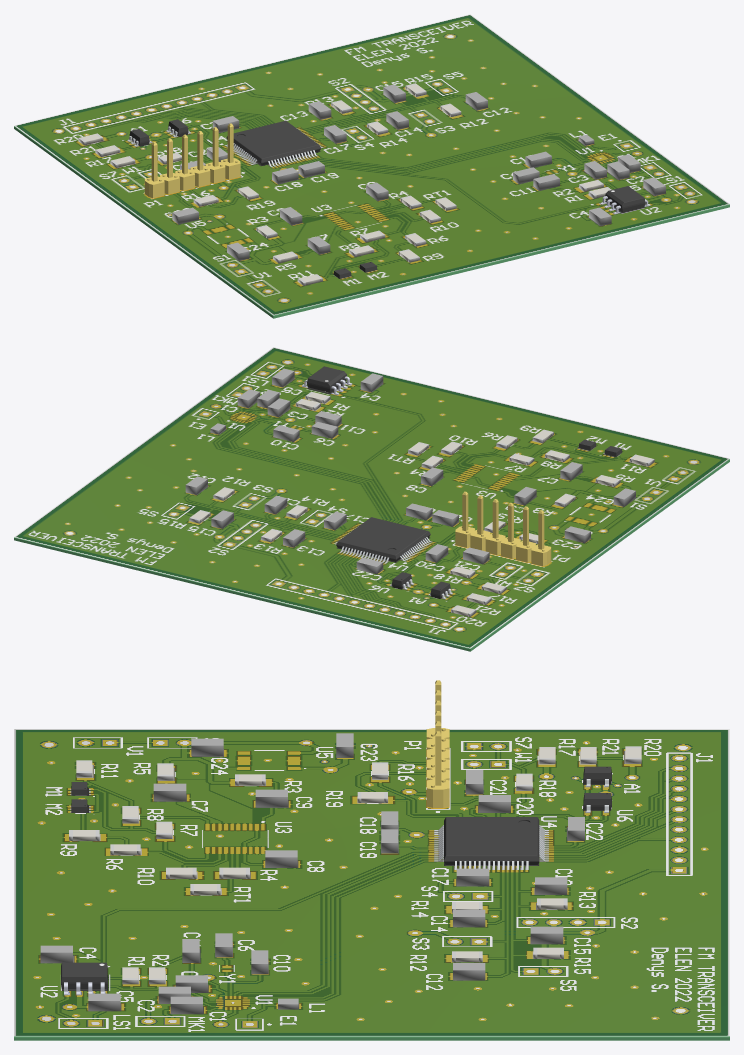
Rendered from PCB.glb.
3 views of the same model, one above another, from view 1: azimuth 30°, elevation 25°; view 2: azimuth 150°, elevation 25°; view 3: azimuth 270°, elevation 25° (orthographic). The views are drawn at different scales.
Parts seen in each view (by area): view 1: Plane, 3dmodel, Open CASCADE STEP translator 7.5 1.1.1, Body002, 8574360816008; view 2: Plane, 3dmodel, Open CASCADE STEP translator 7.5 1.1.1, Body002, 8574360816008; view 3: Plane, Body002, Open CASCADE STEP translator 7.5 1.1.1, 3dmodel, 8574360816008, Extruded074, Extruded075, Extruded083, Extruded085, Extruded076, Extruded081, Extruded089 (+6 smaller).
Part boxes in pixels (bbox=[...]): Plane: bbox=[14, 14, 729, 315]; 3dmodel: bbox=[144, 123, 240, 198]; Open CASCADE STEP translator 7.5 1.1.1: bbox=[14, 126, 729, 318]; Body002: bbox=[226, 120, 320, 165]; 8574360816008: bbox=[605, 186, 645, 212]; Plane: bbox=[14, 347, 729, 648]; 3dmodel: bbox=[455, 491, 551, 566]; Open CASCADE STEP translator 7.5 1.1.1: bbox=[14, 459, 729, 651]; Body002: bbox=[336, 517, 430, 561]; 8574360816008: bbox=[307, 366, 346, 392]; Plane: bbox=[14, 729, 729, 1036]; Body002: bbox=[444, 817, 539, 864]; Open CASCADE STEP translator 7.5 1.1.1: bbox=[14, 1036, 729, 1040]; 3dmodel: bbox=[426, 680, 449, 807]; 8574360816008: bbox=[61, 962, 107, 988]; Extruded074: bbox=[456, 868, 489, 886]; Extruded075: bbox=[530, 926, 563, 944]; Extruded083: bbox=[153, 783, 186, 801]; Extruded085: bbox=[88, 993, 120, 1011]; Extruded076: bbox=[453, 909, 485, 927]; Extruded081: bbox=[255, 789, 287, 807]; Extruded089: bbox=[170, 996, 202, 1014].
Size of the model in its own units: 76.2 by 10.79 by 75.
11 materials, 1 textured.
